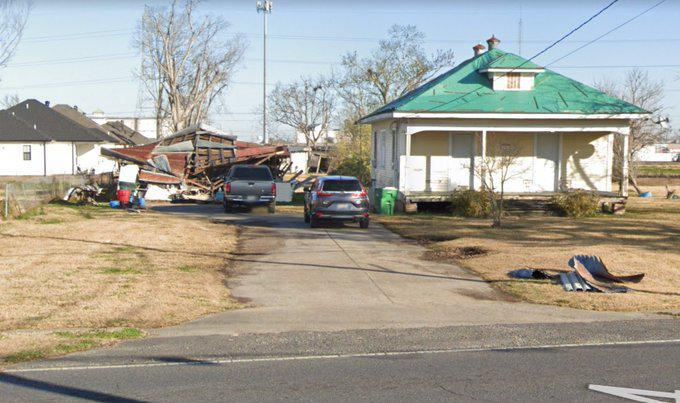affected: (364, 36, 654, 232)
destroyed: (91, 95, 308, 220)
